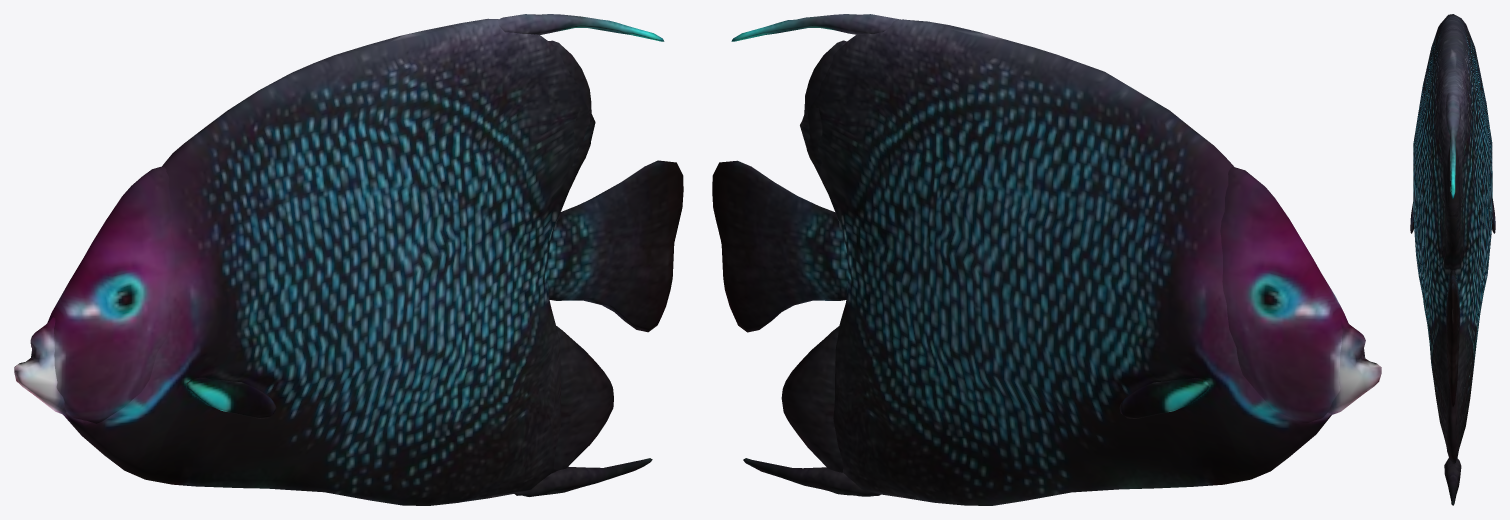
File: fish.glb
3 views of the same model, side by side, from view 1: azimuth 30°, elevation 25°; view 2: azimuth 150°, elevation 25°; view 3: azimuth 270°, elevation 25° (orthographic). The views are drawn at different scales.
Visible parts, largest first — view 1: model; view 2: model; view 3: model.
Boxes of the visible parts, x1,y1,x2,y2 form: model: (14,14,683,505); model: (712,14,1381,505); model: (1410,14,1495,505).
Bounding box in the file's own units: 9713 × 6855 × 1439.
1 material, 1 textured.
